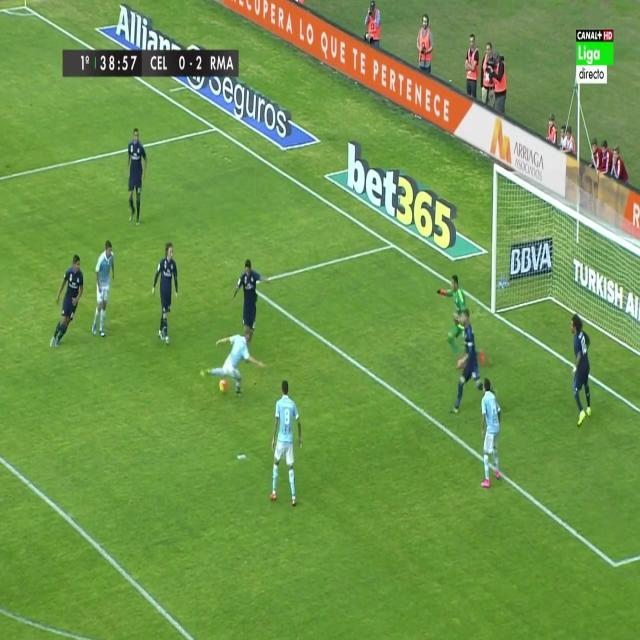Ball: (217, 377, 230, 396)
Goalkeeper: (435, 273, 465, 356)
Player: (268, 378, 302, 509), (202, 328, 266, 394), (450, 310, 490, 414), (51, 253, 84, 355), (232, 257, 272, 339), (150, 241, 180, 347), (478, 376, 502, 491), (89, 239, 116, 341), (571, 314, 594, 429), (126, 127, 149, 230)
